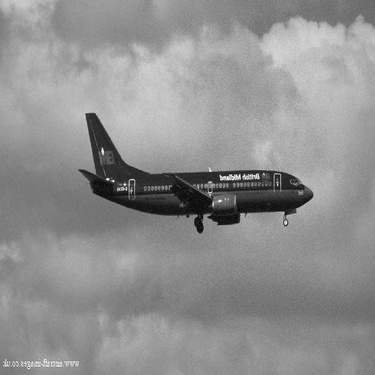airplane: (57, 96, 325, 245)
